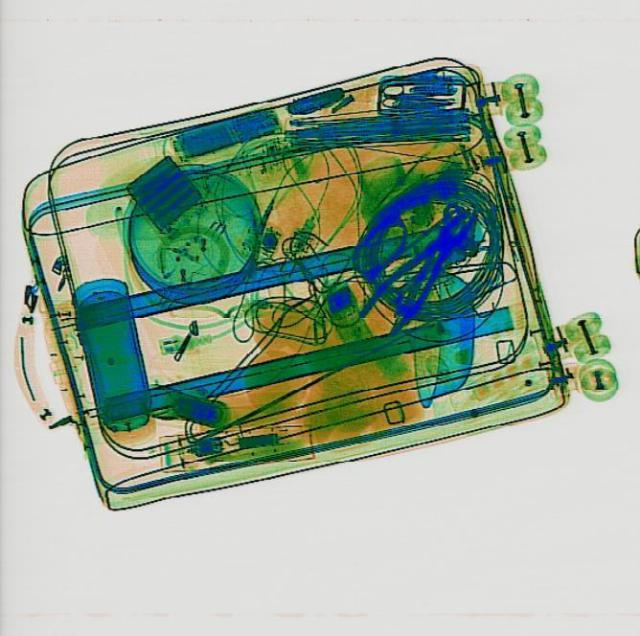Pliers: (354, 195, 488, 337)
